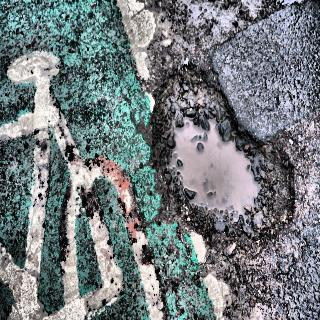pothole: (149, 62, 293, 243)
